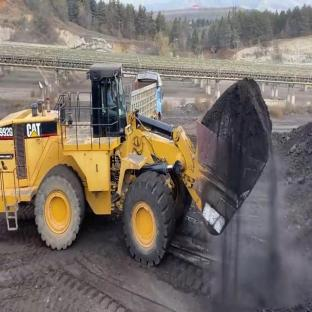ExcavationMachinery: (29, 83, 254, 245)
Vehicle: (133, 62, 171, 119)
